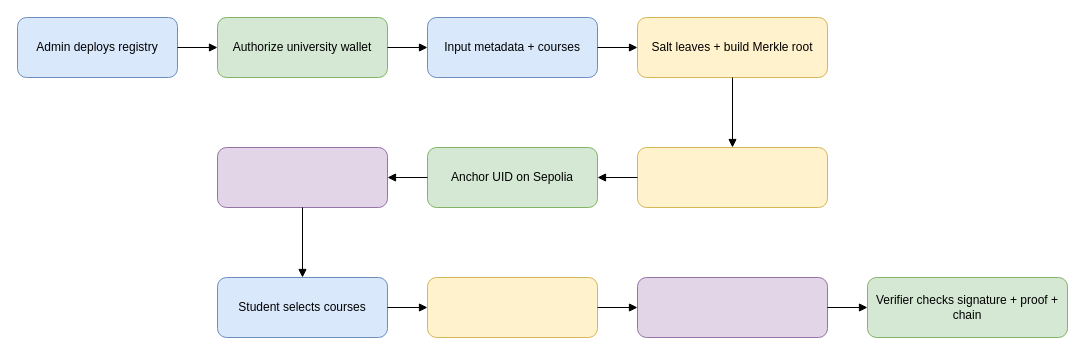
Image size: 1085x355. Some labels were removed from this diagram. The shapes that lost their labels are listed below. From the top down, each one's box as (x1, y1, x2, y2) in pixels, then its label:
(216, 146, 388, 208): Store full credential off-chain
(636, 146, 828, 208): Compute UID + ECDSA sign
(426, 276, 598, 338): Generate Merkle proofs
(636, 276, 828, 338): Presentation JSON / share code
